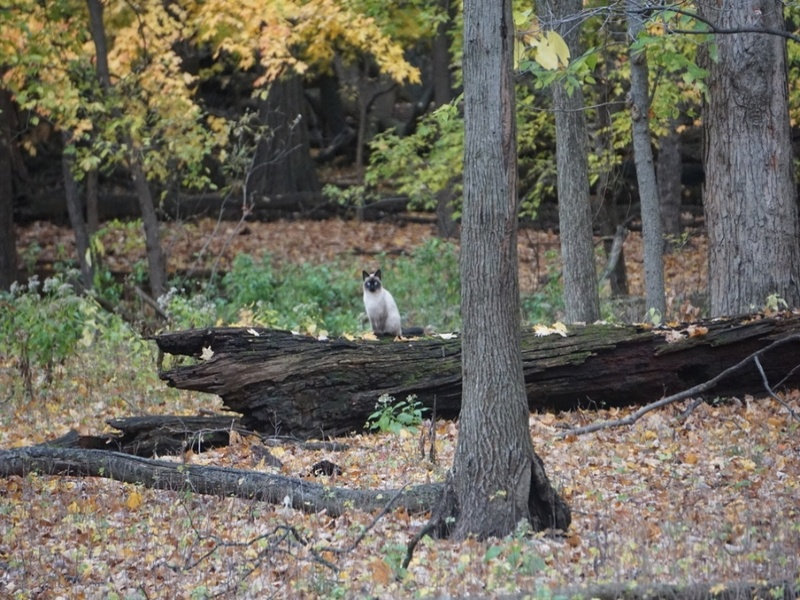cat: (358, 268, 425, 343)
